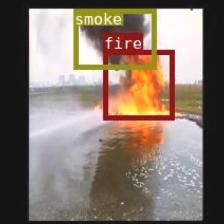fire: (103, 50, 173, 119)
smoke: (74, 8, 156, 68)
